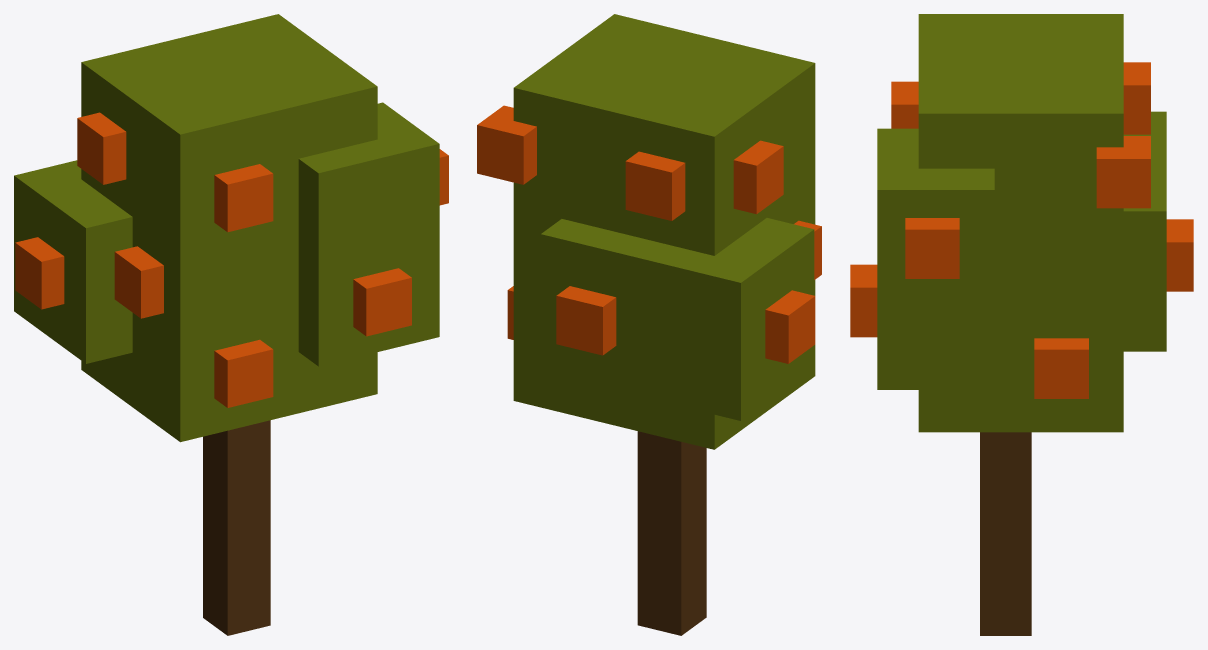
The model's file is FarmFruitTreeRed_02.fbx.
The picture shows the model from 3 angles, left to right: view 1: azimuth 30°, elevation 25°; view 2: azimuth 150°, elevation 25°; view 3: azimuth 270°, elevation 25°; orthographic projection. The views are drawn at different scales.
Visible parts, largest first — view 1: FarmFruitTreeRed_02; view 2: FarmFruitTreeRed_02; view 3: FarmFruitTreeRed_02.
Part boxes in pixels (x1=…): FarmFruitTreeRed_02: x1=14, y1=14, x2=448, y2=635; FarmFruitTreeRed_02: x1=477, y1=14, x2=821, y2=635; FarmFruitTreeRed_02: x1=850, y1=14, x2=1193, y2=635.
Bounding box in the file's own units: 0.4025 × 0.6286 × 0.3487.
